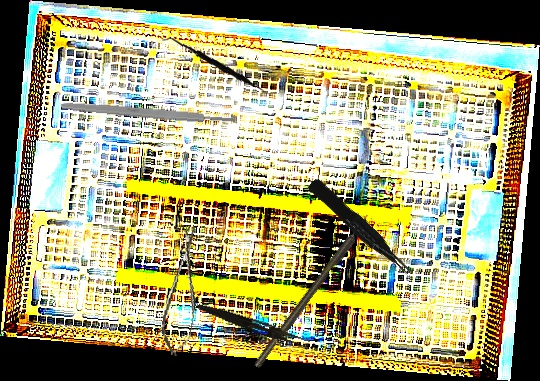Dressing Forceps: (195, 302, 312, 349)
Hook Surgical: (252, 213, 373, 369)
Micro Scissor: (156, 224, 210, 358)
Scalpel Handle: (59, 100, 236, 126)
Spatula Surgical: (161, 31, 278, 103)
Tissue Forceps: (306, 173, 414, 283)
